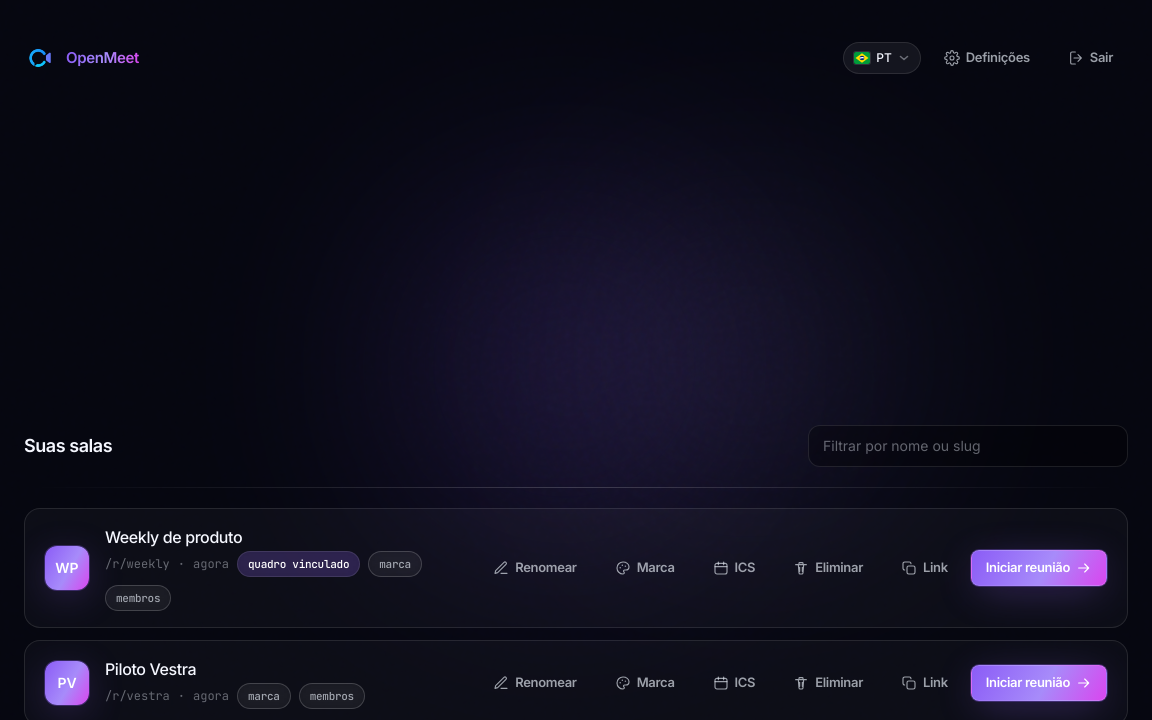
DashboardPage › explains when a filter matches nothing
Expected: the text "Weekly de produto" is shown, [105,526,242,546]
In the field named "Filtrar salas": (968,446) [808,424,1128,466], type "zzz"
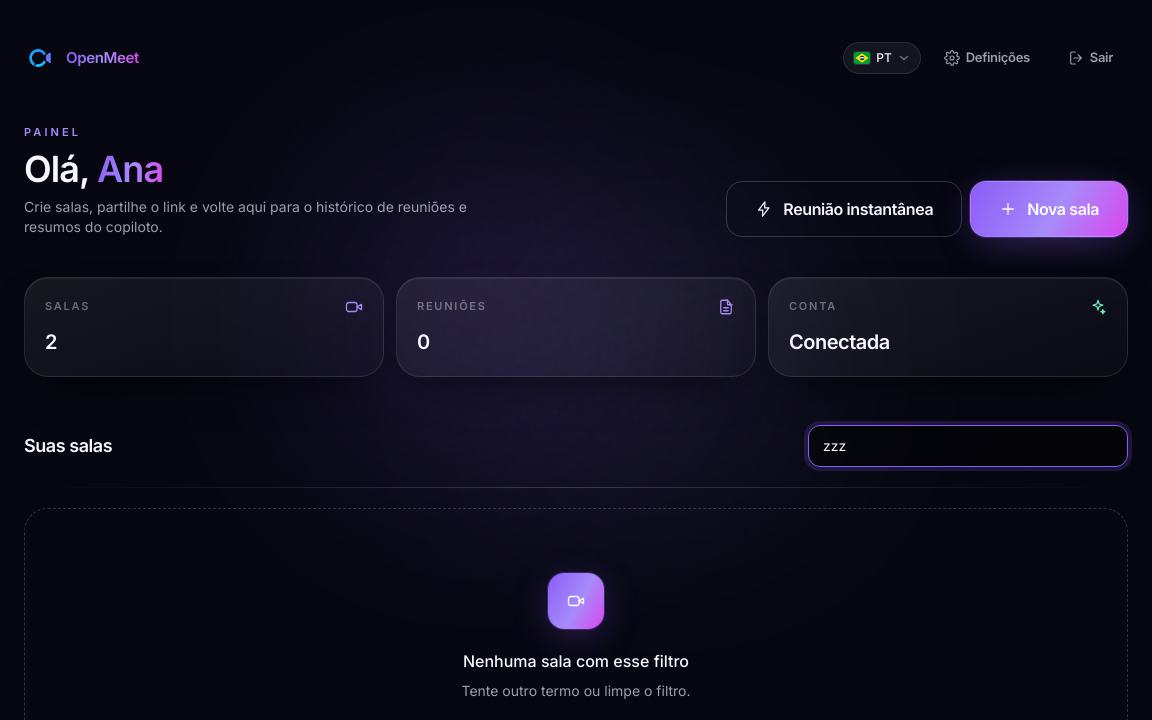
Expected: the text "Nenhuma sala com esse filtro" is shown, [463,650,689,670]
